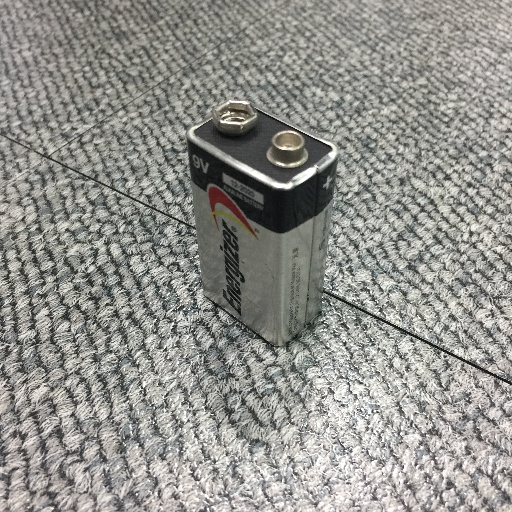Battery_3: (173, 77, 365, 378)
